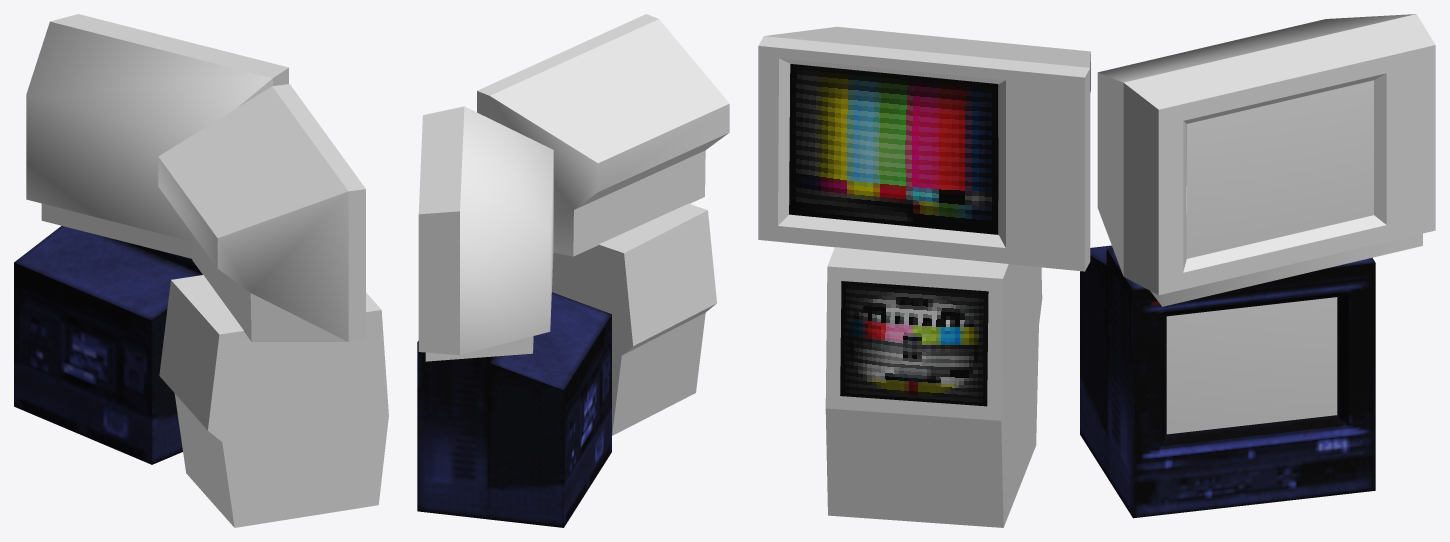
The model's file is Televisions.fbx.
3 renders of one model, left to right at view 1: azimuth 30°, elevation 25°; view 2: azimuth 150°, elevation 25°; view 3: azimuth 270°, elevation 25°, orthographic. The views are drawn at different scales.
Visible parts, largest first — view 1: TVBox, TVBlack, TVYellow, TVGrey; view 2: TVBlack, TVGrey, TVYellow, TVBox; view 3: TVYellow, TVGrey, TVBlack, TVBox, TVBlackScreen, TVYellowScreens, TVGreyScreen, TVBoxScreen.
Part boxes in pixels (bbox=[...]): TVBox: bbox=[159, 275, 388, 527]; TVBlack: bbox=[158, 84, 365, 341]; TVYellow: bbox=[26, 14, 288, 258]; TVGrey: bbox=[14, 226, 202, 464]; TVBlack: bbox=[477, 14, 729, 256]; TVGrey: bbox=[417, 292, 611, 527]; TVYellow: bbox=[418, 106, 553, 361]; TVBox: bbox=[552, 203, 716, 435]; TVYellow: bbox=[1097, 14, 1435, 306]; TVGrey: bbox=[1080, 245, 1375, 518]; TVBlack: bbox=[758, 26, 1090, 271]; TVBox: bbox=[825, 200, 1042, 527]; TVBlackScreen: bbox=[789, 64, 998, 234]; TVYellowScreens: bbox=[1186, 80, 1373, 258]; TVGreyScreen: bbox=[1166, 297, 1337, 434]; TVBoxScreen: bbox=[840, 281, 988, 406].
Size of the model in its own units: 101 by 158 by 218.
8 materials, 3 textured.
